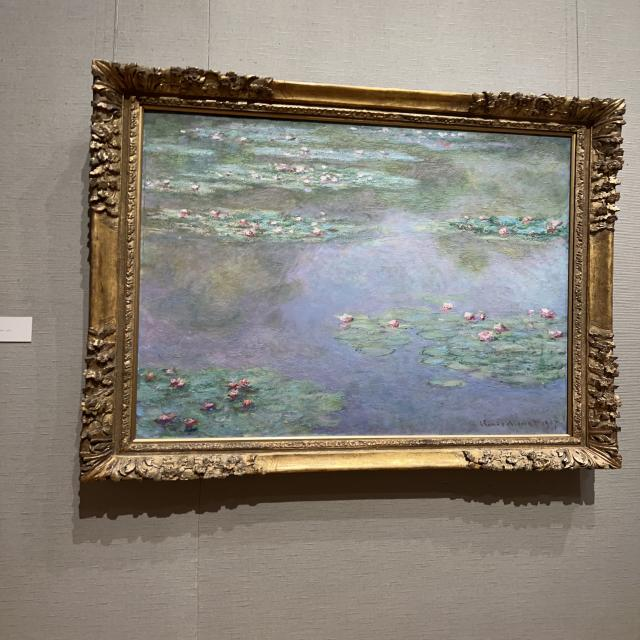lilies: (138, 114, 568, 435)
